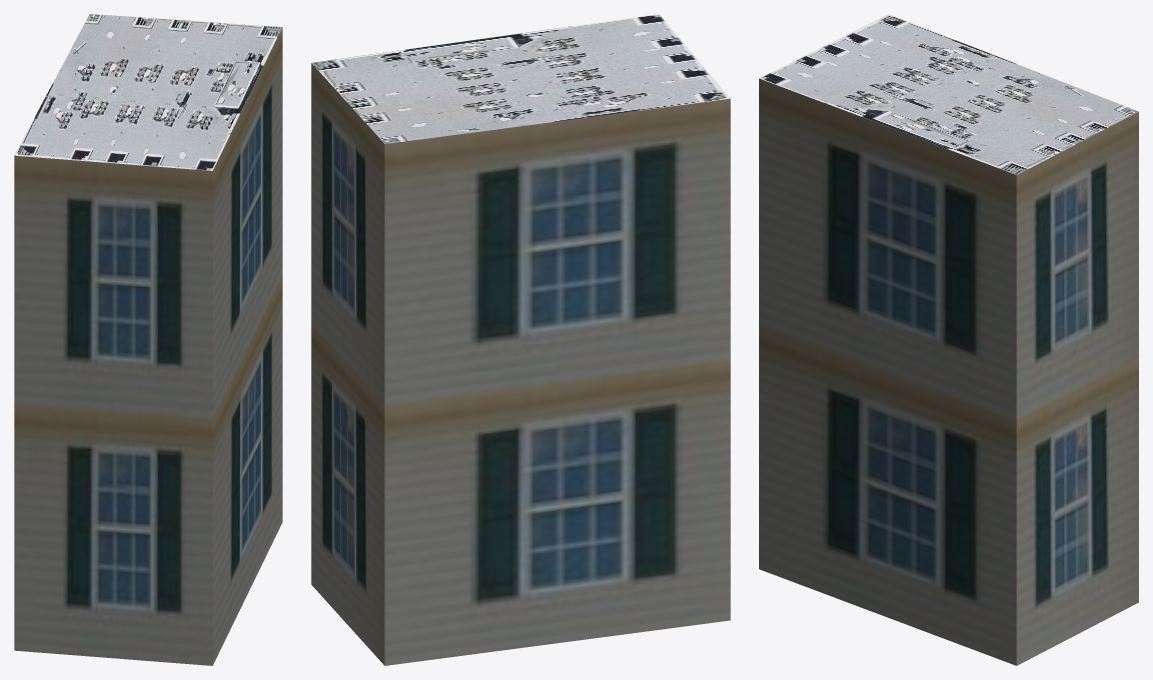
Rendered from ResTex__279.fbx.
3 renders of one model, left to right at view 1: azimuth 30°, elevation 25°; view 2: azimuth 150°, elevation 25°; view 3: azimuth 270°, elevation 25°, orthographic. The views are drawn at different scales.
Visible parts, largest first — view 1: CityEngineMaterial_7_m, CityEngineMaterial_2_m; view 2: CityEngineMaterial_7_m, CityEngineMaterial_2_m; view 3: CityEngineMaterial_7_m, CityEngineMaterial_2_m.
Part boxes in pixels (bbox=[...]): CityEngineMaterial_7_m: bbox=[14, 28, 282, 665]; CityEngineMaterial_2_m: bbox=[14, 14, 282, 170]; CityEngineMaterial_7_m: bbox=[311, 63, 730, 665]; CityEngineMaterial_2_m: bbox=[311, 14, 730, 143]; CityEngineMaterial_7_m: bbox=[759, 78, 1138, 665]; CityEngineMaterial_2_m: bbox=[759, 14, 1138, 174].
Bounding box in the file's own units: 4.23 × 6 × 4.21.
Materials: 2 (2 with a texture image).
